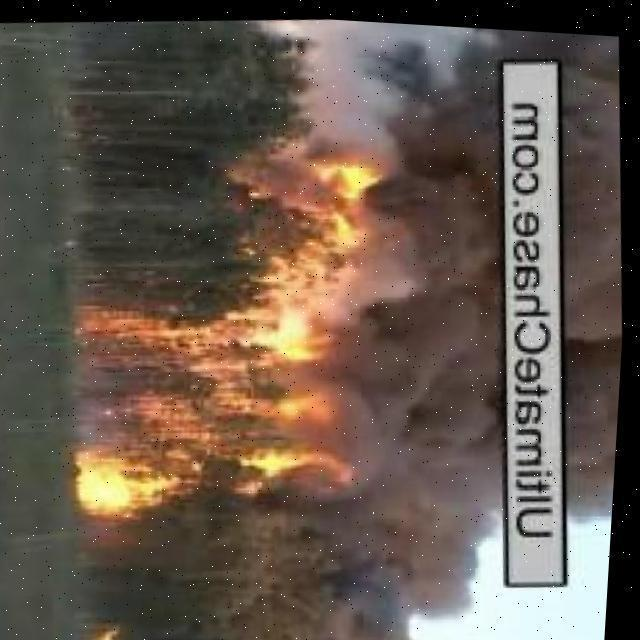fire: (68, 301, 385, 531), (258, 134, 414, 270), (82, 621, 134, 640)
